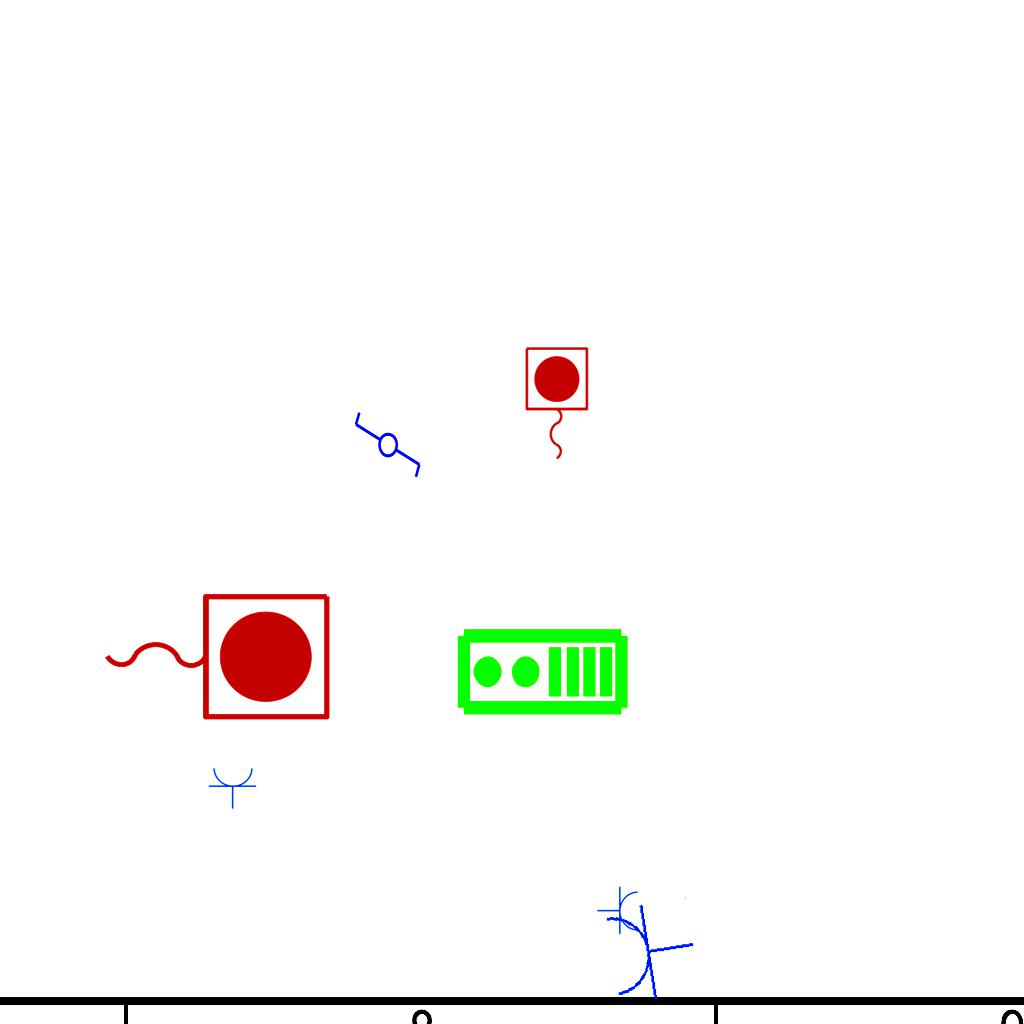Gegensprechanlage_mit_Video: (454, 626, 630, 721)
Schukosteckdose_einfach: (600, 894, 702, 1007), (208, 766, 258, 809), (597, 886, 640, 936)
Wechselschalter: (351, 410, 423, 488)
Zugtaster: (94, 583, 338, 727), (520, 343, 592, 465)
